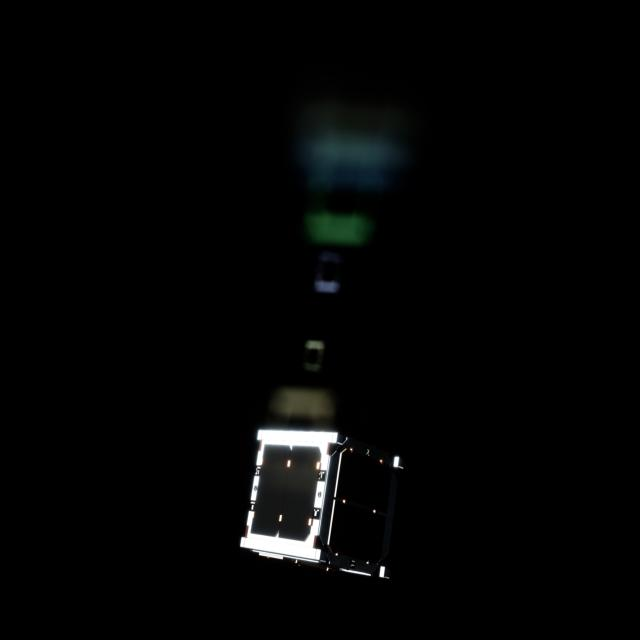medium_debris: (229, 427, 412, 588)
